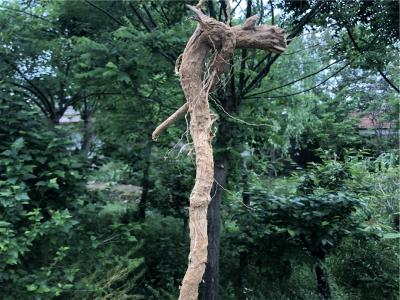Root: (152, 0, 286, 300)
